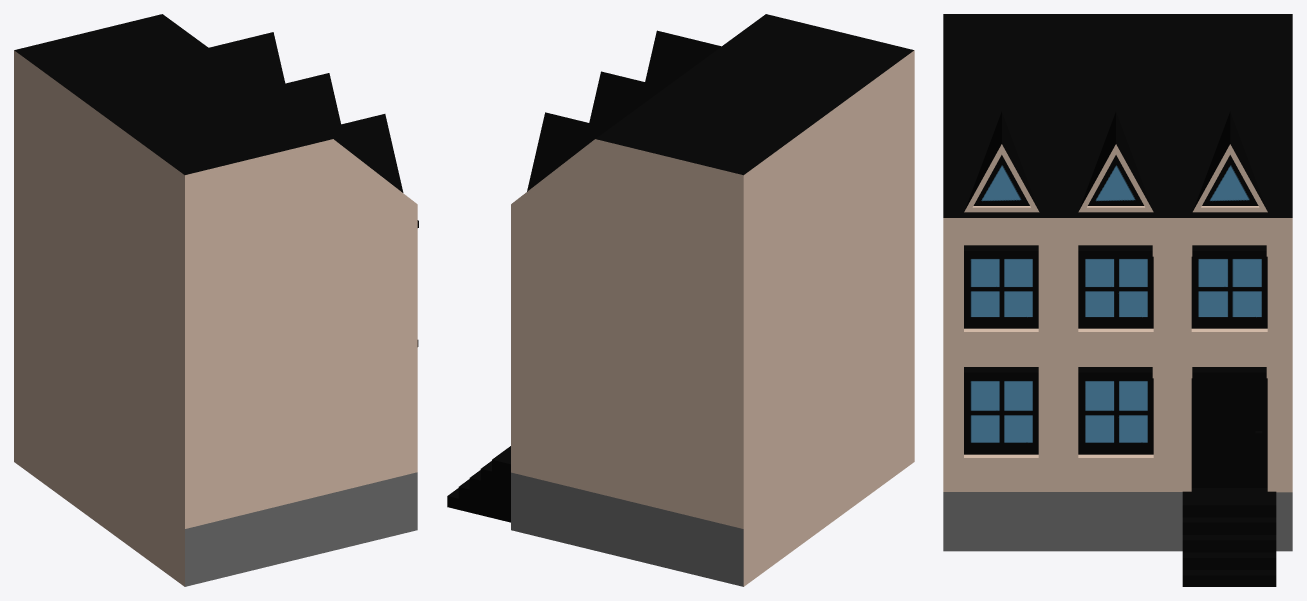
Rendered from moduê1.obj.
The picture shows the model from 3 angles, left to right: view 1: azimuth 30°, elevation 25°; view 2: azimuth 150°, elevation 25°; view 3: azimuth 270°, elevation 25°; orthographic projection. The views are drawn at different scales.
Parts seen in each view (by area): view 1: Cube.003; view 2: Cube.003; view 3: Cube.003.
Part boxes in pixels (x1,y1,x2,y2): Cube.003: (14,14,418,586); Cube.003: (447,14,914,586); Cube.003: (943,14,1292,586).
Size of the model in its own units: 6.11 by 7.9 by 5.94.
